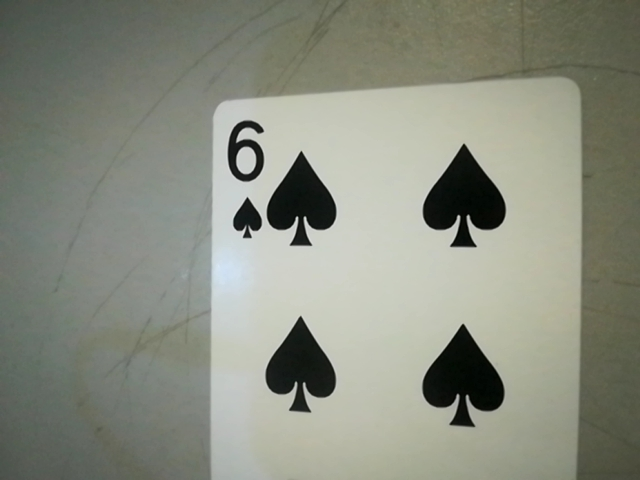ht 6: (215, 114, 273, 241)
